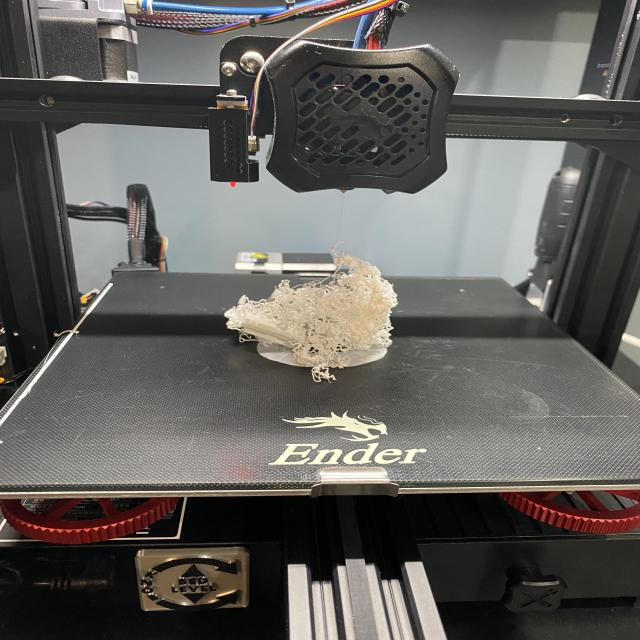Spaghetti: (220, 244, 400, 379)
